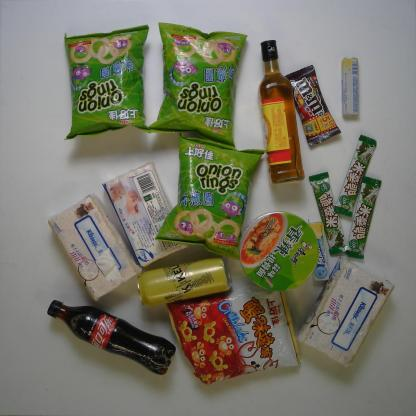Alcohol: (136, 256, 232, 307)
Candy: (309, 222, 330, 282), (341, 57, 360, 118)
Chocolate: (284, 64, 342, 148), (334, 134, 377, 218), (308, 171, 350, 256), (345, 175, 382, 260)
Drink: (47, 300, 176, 376)
Instant Noodles: (239, 211, 319, 292)
Puffed Food: (154, 131, 267, 261), (167, 284, 302, 386), (148, 22, 249, 150), (63, 24, 151, 141)
Seasoner: (260, 39, 305, 186)
Tissue: (296, 256, 396, 370), (47, 193, 143, 302), (102, 161, 192, 268)
